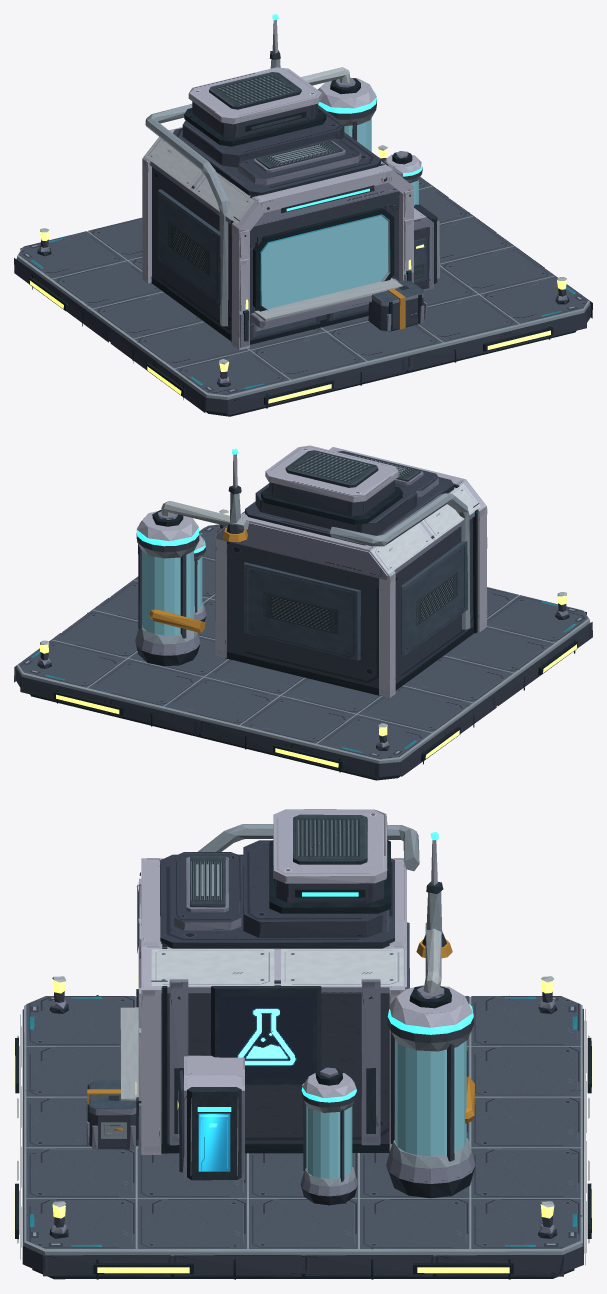
File: LB02_LaboratorioDeAnalisis_Distancia.fbx
3 renders of one model, top to bottom at view 1: azimuth 30°, elevation 25°; view 2: azimuth 150°, elevation 25°; view 3: azimuth 270°, elevation 25°, orthographic. The views are drawn at different scales.
Parts seen in each view (by area): view 1: EstructuraDistante_2, VidriosDistantes_2; view 2: EstructuraDistante_2, VidriosDistantes_2; view 3: EstructuraDistante_2, VidriosDistantes_2.
Boxes of the visible parts, x1,y1,x2,y2 form: EstructuraDistante_2: (14,14,592,416); VidriosDistantes_2: (261,118,418,308); EstructuraDistante_2: (14,445,592,780); VidriosDistantes_2: (142,551,202,635); EstructuraDistante_2: (14,809,592,1279); VidriosDistantes_2: (306,1039,466,1178).
Bounding box in the file's own units: 6.51 × 3.87 × 6.05.
